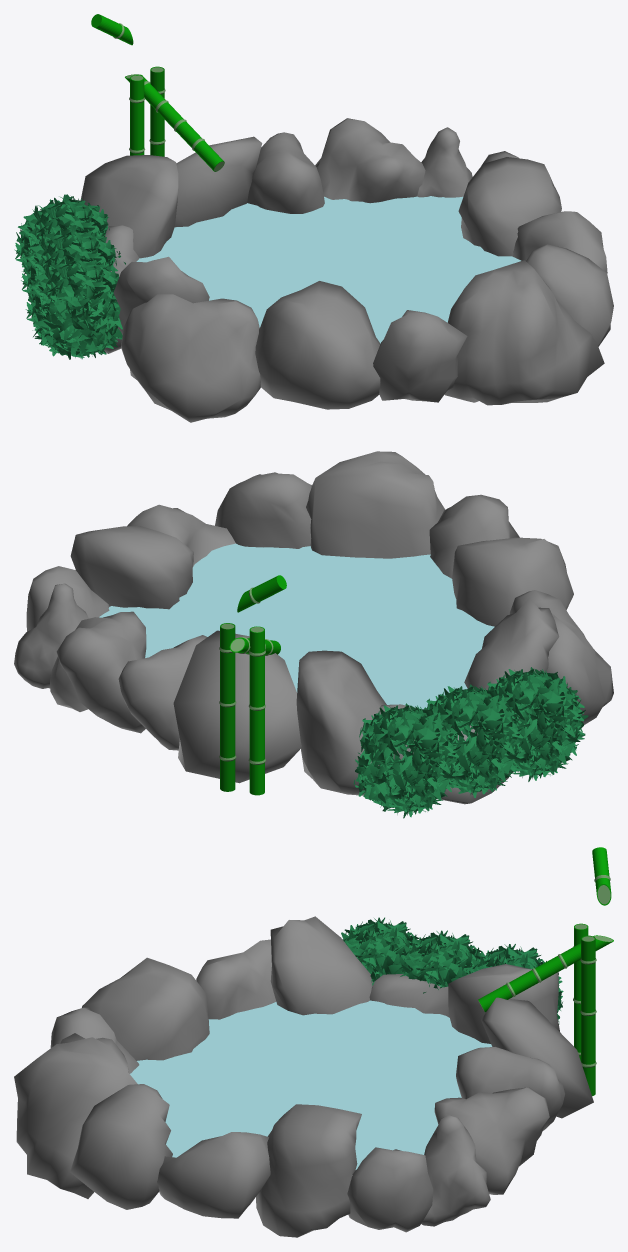
File: onsen.fbx
The picture shows the model from 3 angles, top to bottom: view 1: azimuth 30°, elevation 25°; view 2: azimuth 150°, elevation 25°; view 3: azimuth 270°, elevation 25°; orthographic projection. The views are drawn at different scales.
Visible parts, largest first — view 1: 平面, rock.020, rock.017, Плоскость.002, rock.022, rock.015, rock.009, rock.023, rock.021, rock.001, rock.019, rock.007 (+8 smaller); view 2: 平面, Плоскость.002, rock.020, rock.001, rock.009, rock.015, rock.023, rock.022, rock.019, rock.007, rock.016, rock.017 (+9 smaller); view 3: 平面, rock.020, rock.015, rock.019, rock.022, rock.016, Плоскость.002, rock.018, rock.023, rock.014, rock.001, rock.012 (+9 smaller).
Part boxes in pixels (box(x1,y1,x2,y2)): 平面: box(136, 196, 521, 343); rock.020: box(444, 260, 604, 405); rock.017: box(121, 294, 260, 422); Плоскость.002: box(14, 194, 125, 359); rock.022: box(255, 281, 380, 409); rock.015: box(458, 157, 561, 256); rock.009: box(80, 155, 178, 258); rock.023: box(315, 118, 425, 203); rock.021: box(373, 310, 467, 402); rock.001: box(175, 136, 262, 227); rock.019: box(526, 244, 613, 346); rock.007: box(247, 132, 324, 213); 平面: box(99, 543, 494, 709); Плоскость.002: box(353, 667, 588, 818); rock.020: box(306, 451, 445, 558); rock.001: box(173, 630, 301, 783); rock.009: box(296, 650, 393, 795); rock.015: box(70, 526, 193, 609); rock.023: box(50, 611, 146, 733); rock.022: box(452, 537, 573, 626); rock.019: box(215, 472, 311, 548); rock.007: box(118, 635, 207, 750); rock.016: box(464, 597, 559, 720); rock.017: box(510, 590, 613, 724); 平面: box(130, 1000, 492, 1169); rock.020: box(14, 1033, 137, 1198); rock.015: box(256, 1104, 361, 1237); rock.019: box(70, 1084, 172, 1209); rock.022: box(82, 957, 209, 1060); rock.016: box(270, 916, 373, 1015); Плоскость.002: box(341, 917, 563, 1024); rock.018: box(157, 1132, 270, 1218); rock.023: box(434, 1087, 549, 1194); rock.014: box(347, 1147, 433, 1232); rock.001: box(481, 997, 593, 1118); rock.012: box(421, 1115, 490, 1226).
Bounding box in the file's own units: 1362 × 629 × 1366.
